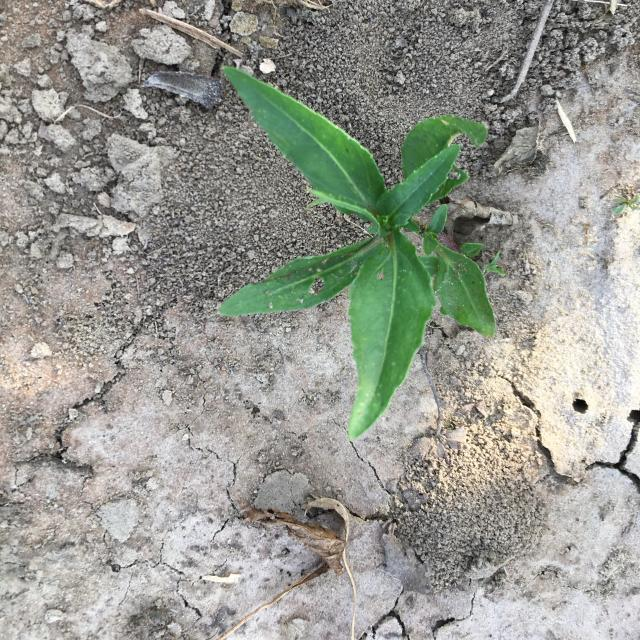Eclipta: (218, 67, 497, 440)
